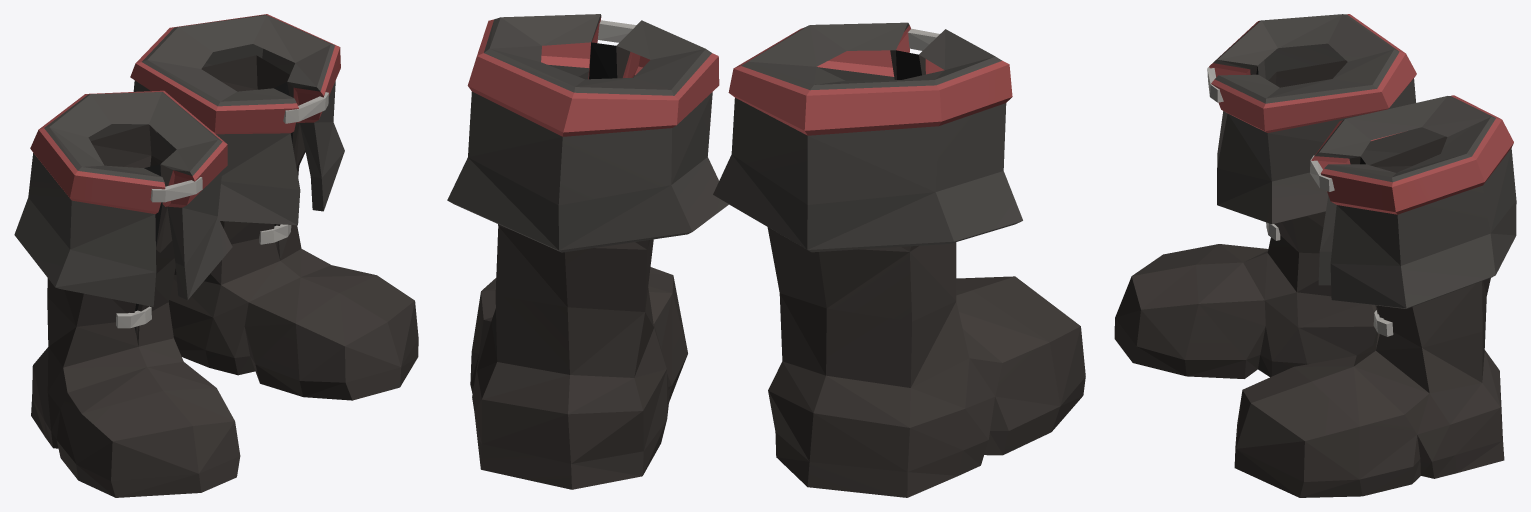
The model's file is bootsPirateDisplay.fbx.
3 views of the same model, side by side, from view 1: azimuth 30°, elevation 25°; view 2: azimuth 150°, elevation 25°; view 3: azimuth 270°, elevation 25° (orthographic). The views are drawn at different scales.
Visible parts, largest first — view 1: bootsPirateDisplay; view 2: bootsPirateDisplay; view 3: bootsPirateDisplay.
Boxes of the visible parts, left/top/right/bottom form: bootsPirateDisplay: left=14, top=14, right=418, bottom=497; bootsPirateDisplay: left=447, top=14, right=1085, bottom=497; bootsPirateDisplay: left=1114, top=14, right=1516, bottom=497.
Bounding box in the file's own units: 1.48 × 1.12 × 1.3.
Materials: 1 (1 with a texture image).
